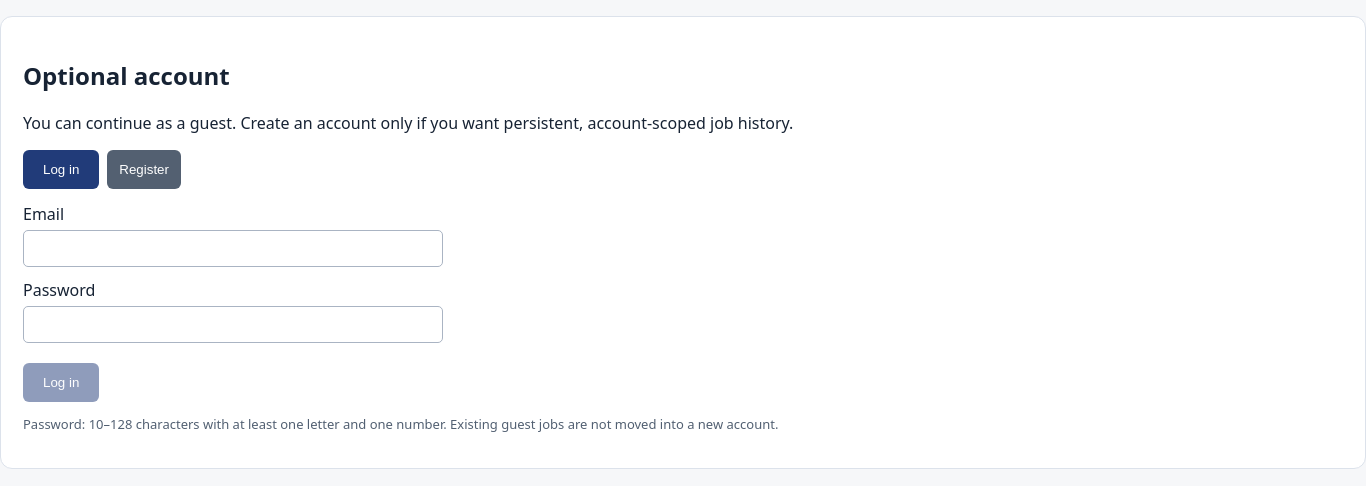
Test: supports optional account login without hiding guest access
The width and height of the screenshot is (1366, 486).
Check: the text "continue as a guest" is shown, box [23,112,793,134]
Type "student@example.edu" into the field labelled "Email" at (233, 248), box [23,230,443,267]
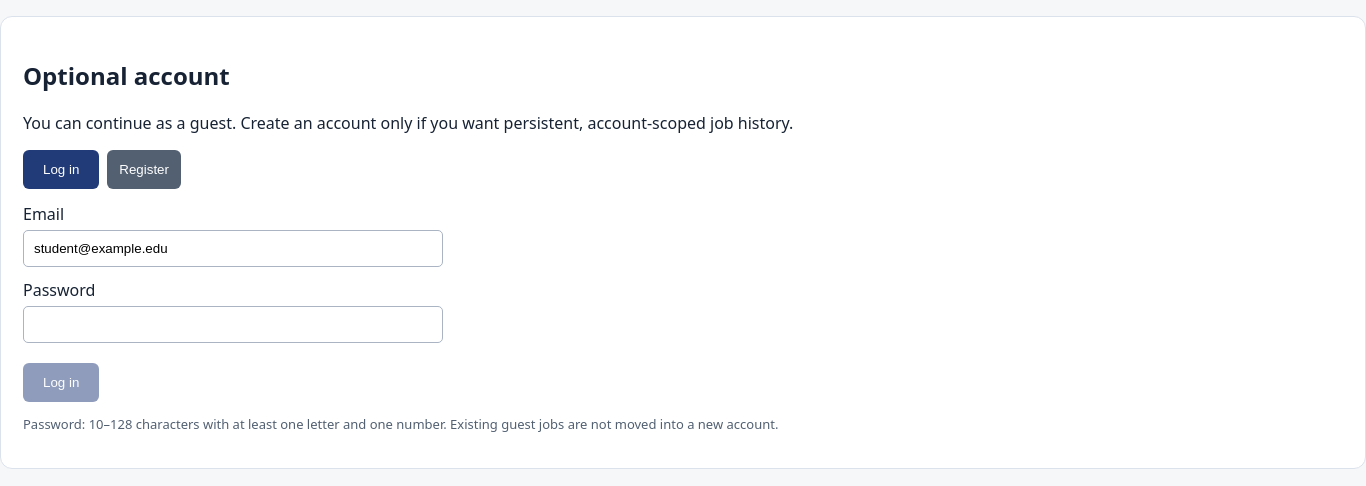
Type "example1234" into the password field labelled "Password" at (233, 324), box [23,306,443,343]
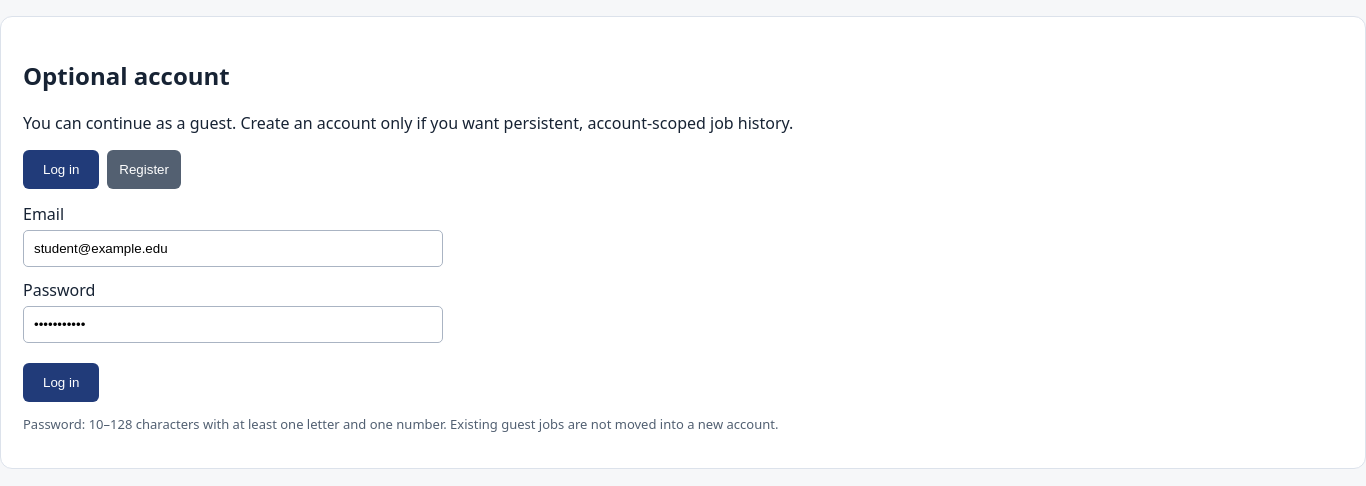
Click the 2nd button "Log in" at (61, 382), box [23,363,99,402]
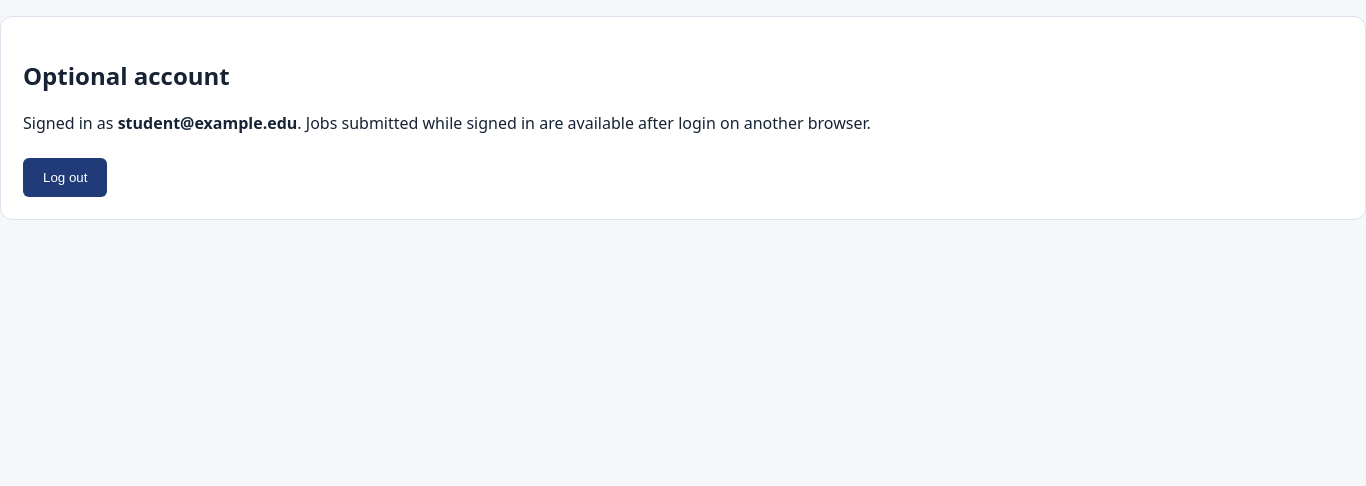
Check: the text "Signed in as" shows "student@example.edu", box [118,112,297,134]
